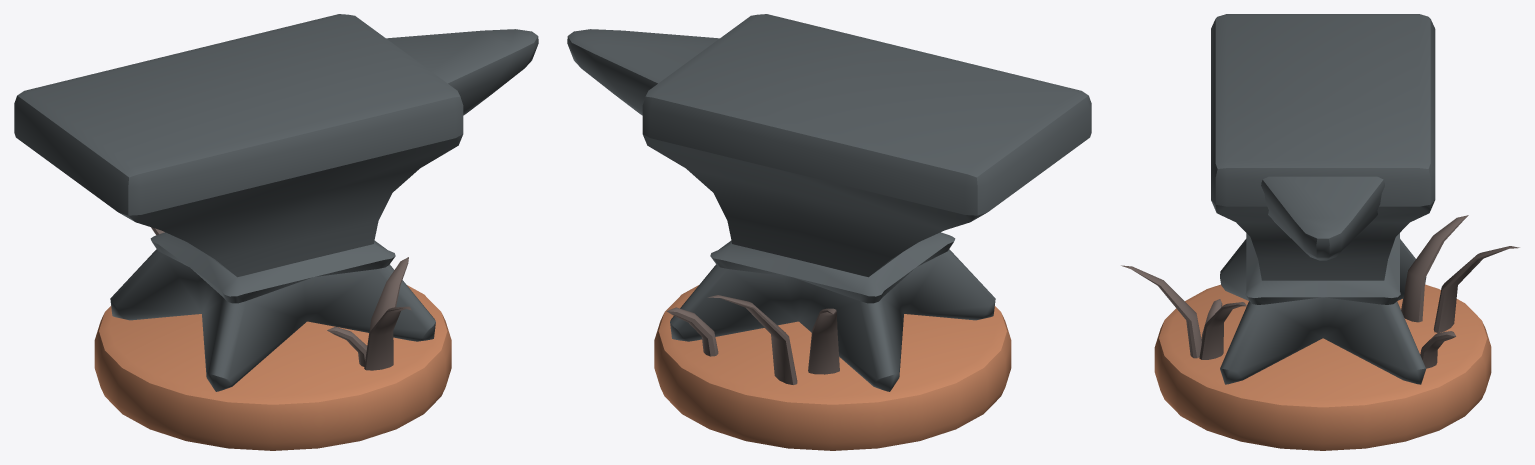
The model's file is anvil_base.gltf.glb.
The picture shows the model from 3 angles, left to right: view 1: azimuth 30°, elevation 25°; view 2: azimuth 150°, elevation 25°; view 3: azimuth 270°, elevation 25°; orthographic projection. The views are drawn at different scales.
Visible parts, largest first — view 1: anvil_base; view 2: anvil_base; view 3: anvil_base.
Boxes of the visible parts, x1,y1,x2,y2 form: anvil_base: (14, 14, 538, 450); anvil_base: (567, 14, 1091, 450); anvil_base: (1121, 14, 1519, 450).
Size of the model in its own units: 0.9083 by 0.5532 by 0.7147.
